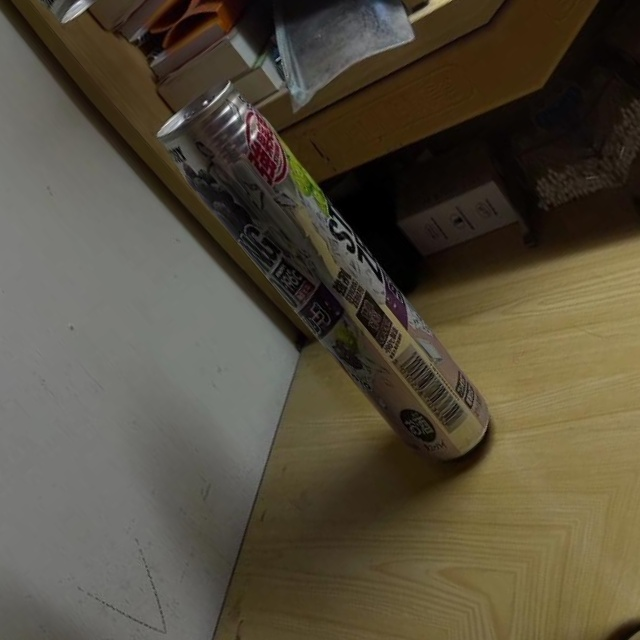Liquor: (144, 65, 517, 482)
